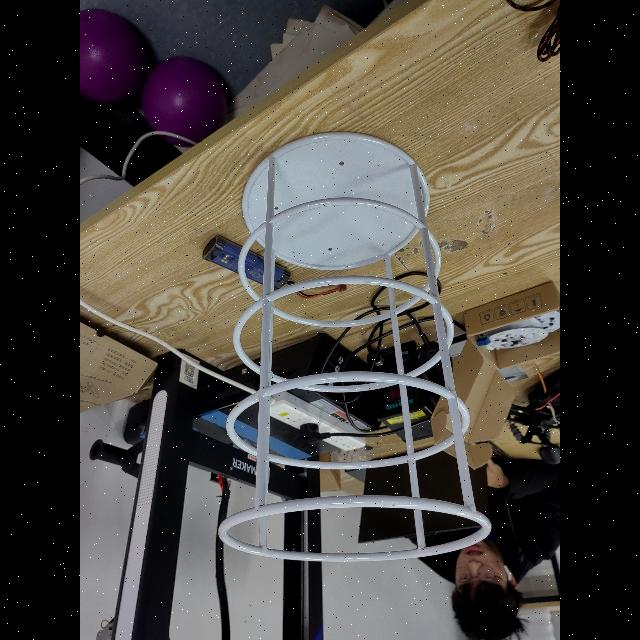S: (210, 127, 496, 569)
